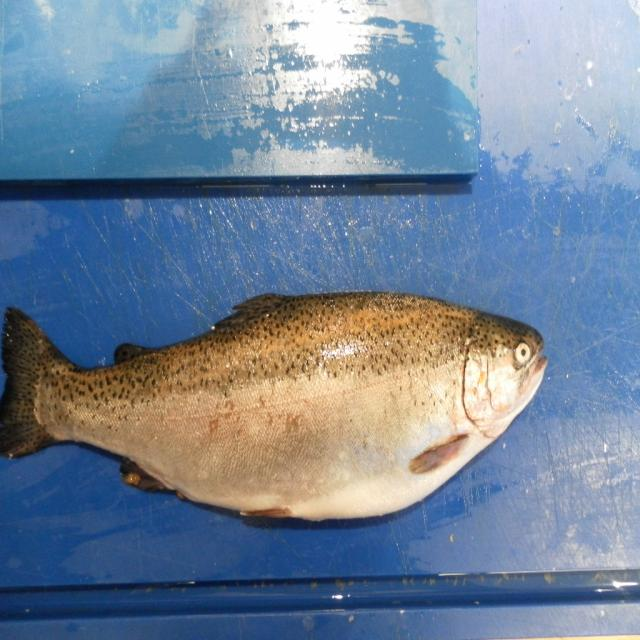Trout-alabalik-: (0, 292, 546, 519)
